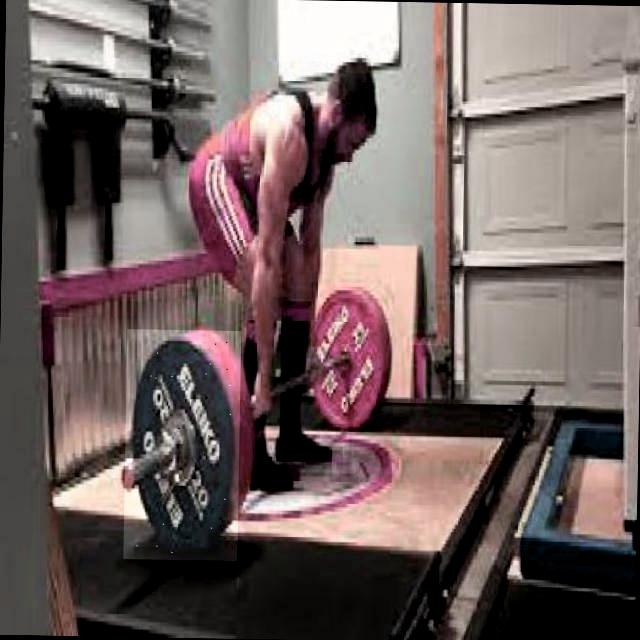barbell: (123, 330, 242, 562)
